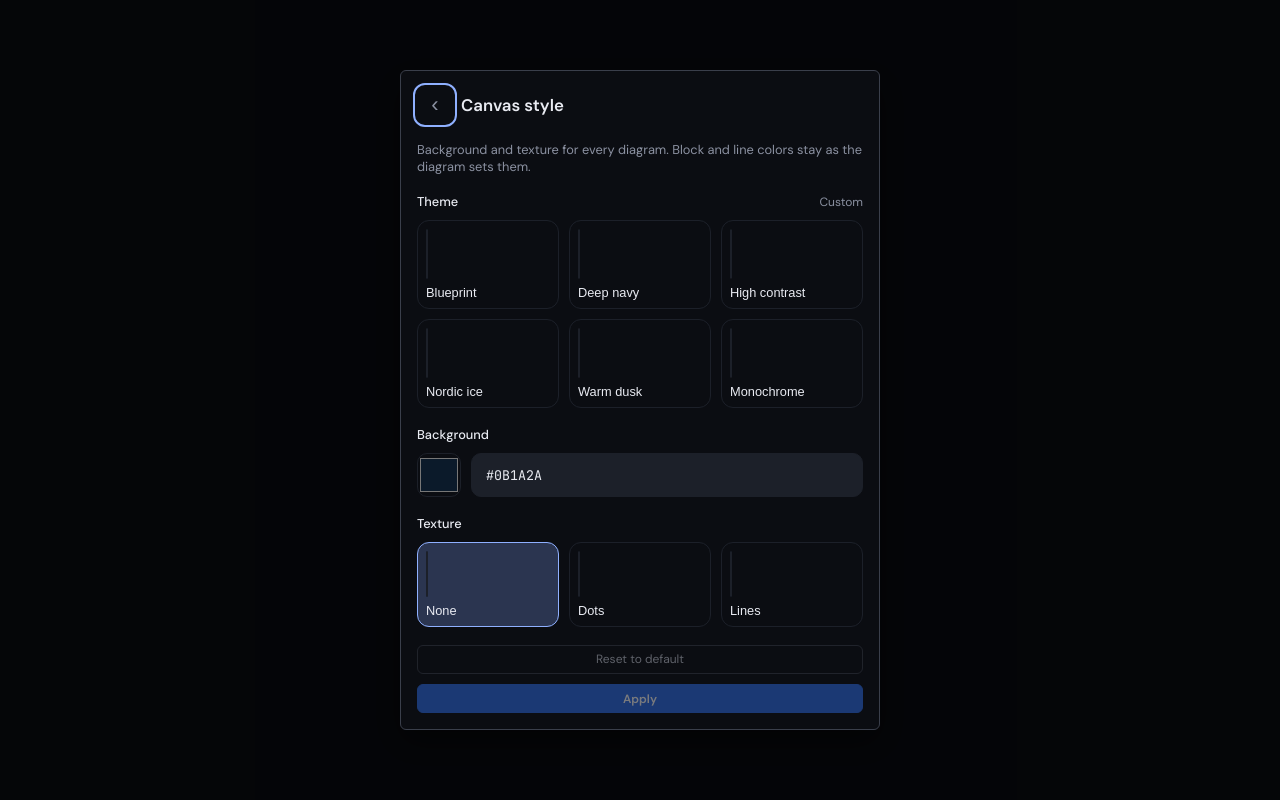
CanvasStylePanel › hides texture controls for none and shows them for dots
Click the button with test id "canvas-style-texture-dots" at (640, 584), box [569,542,711,627]
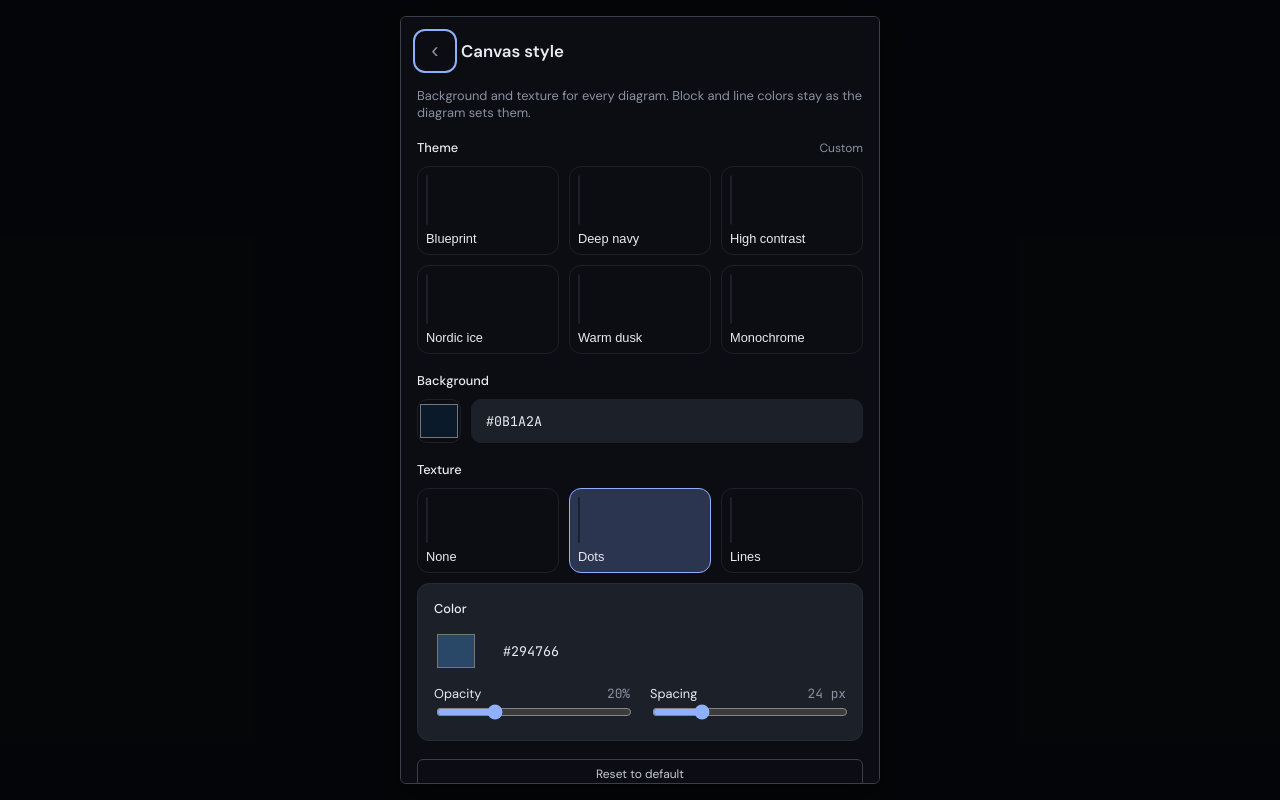
Now the element with test id "canvas-style-texture-controls" is shown, box [417,583,863,741]
